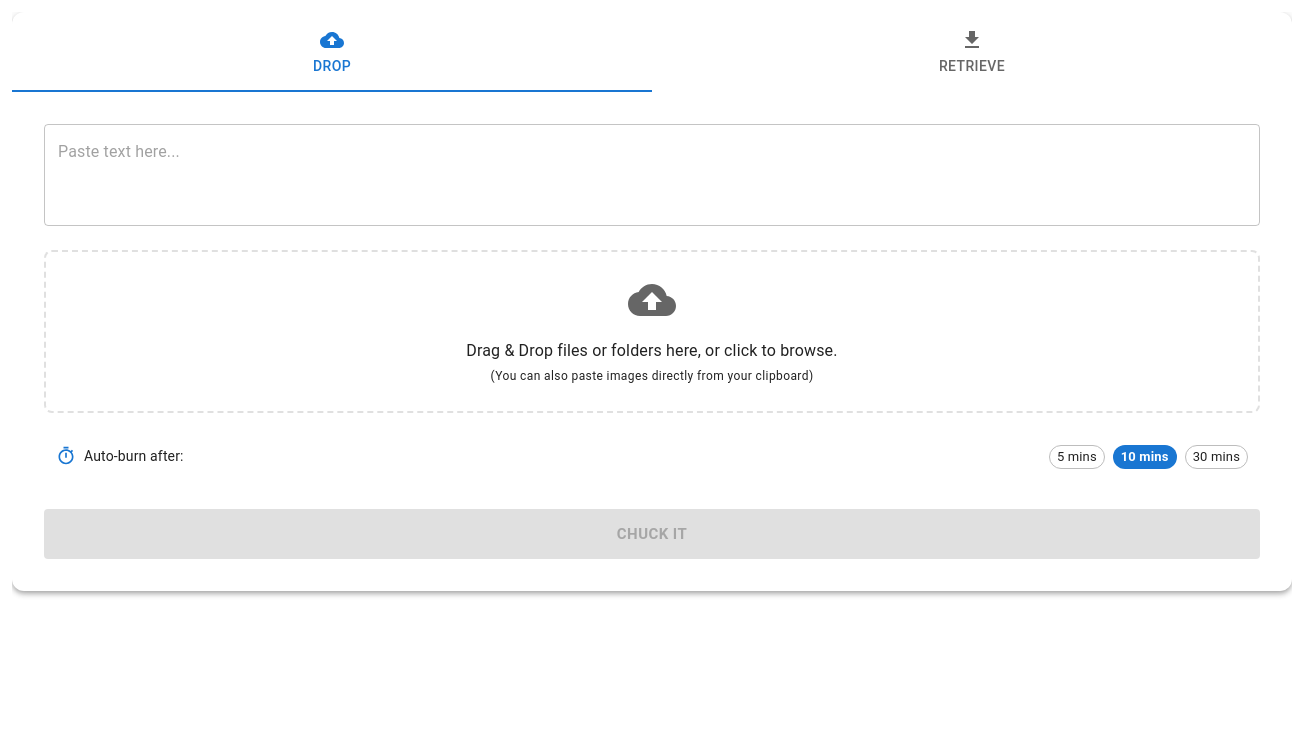
Scenario: TransferHub › switches back from RETRIEVE to DROP tab cleanly
The width and height of the screenshot is (1304, 732).
# Switch to Retrieve
Step 1. Click the tab "RETRIEVE" → (972, 52), box top-left (652, 12), bottom-right (1292, 92)
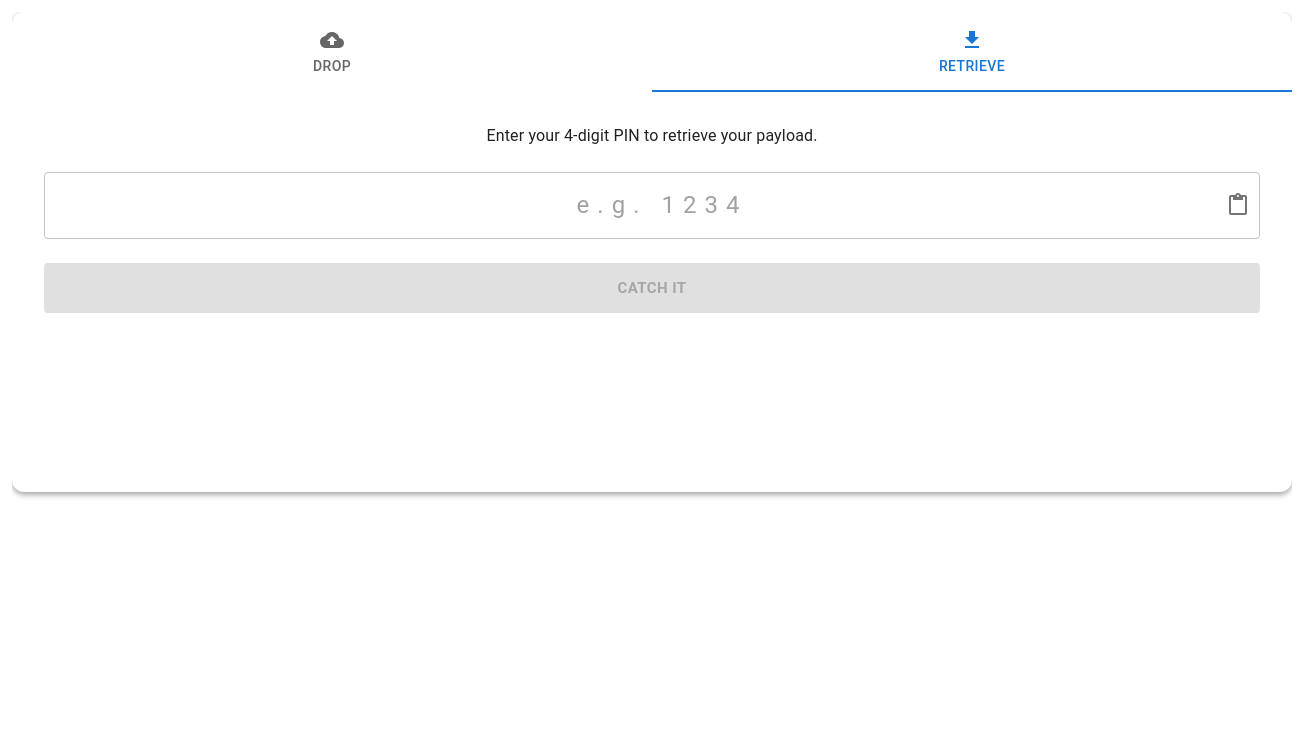
Check: the field with placeholder "e.g. 1234" is shown, box top-left (106, 172), bottom-right (1210, 239)
# Switch back to Drop
Step 2. Click the tab "DROP" → (332, 52), box top-left (12, 12), bottom-right (652, 92)
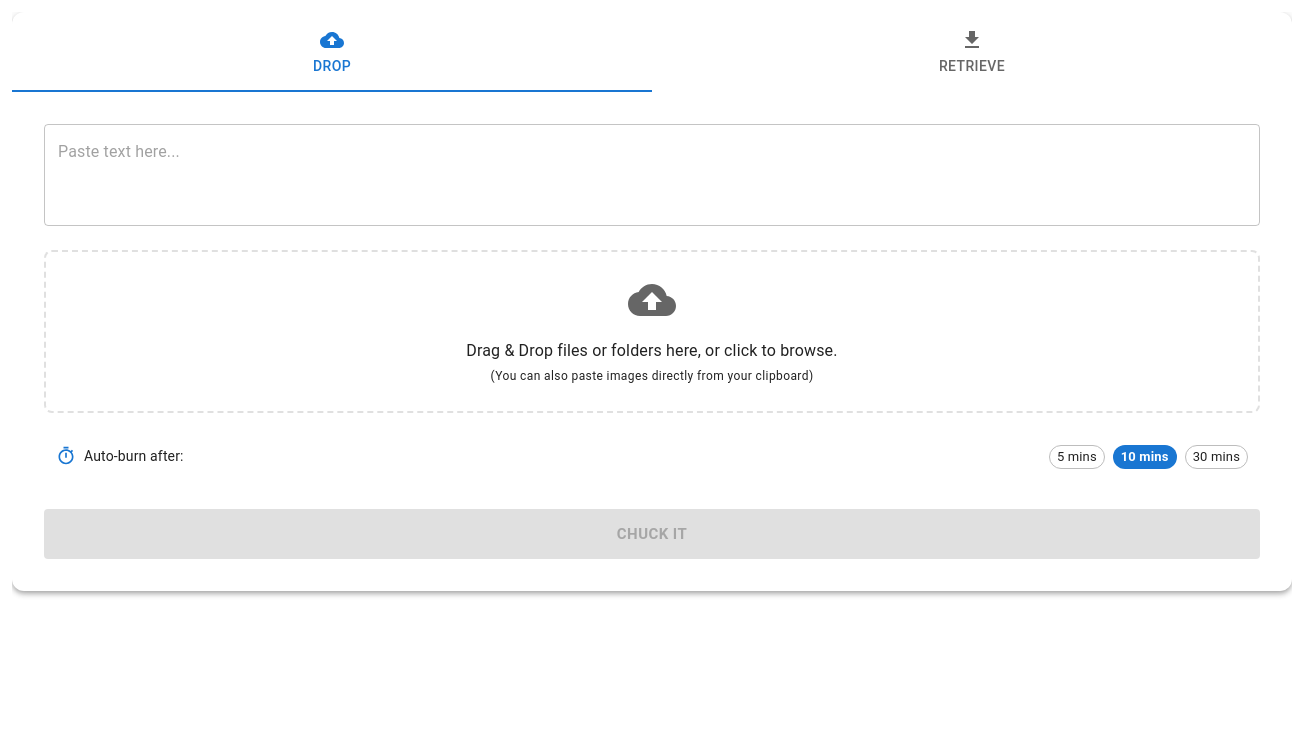
Check: the text box with placeholder "Paste text here..." is shown, box top-left (58, 140), bottom-right (1246, 209)
